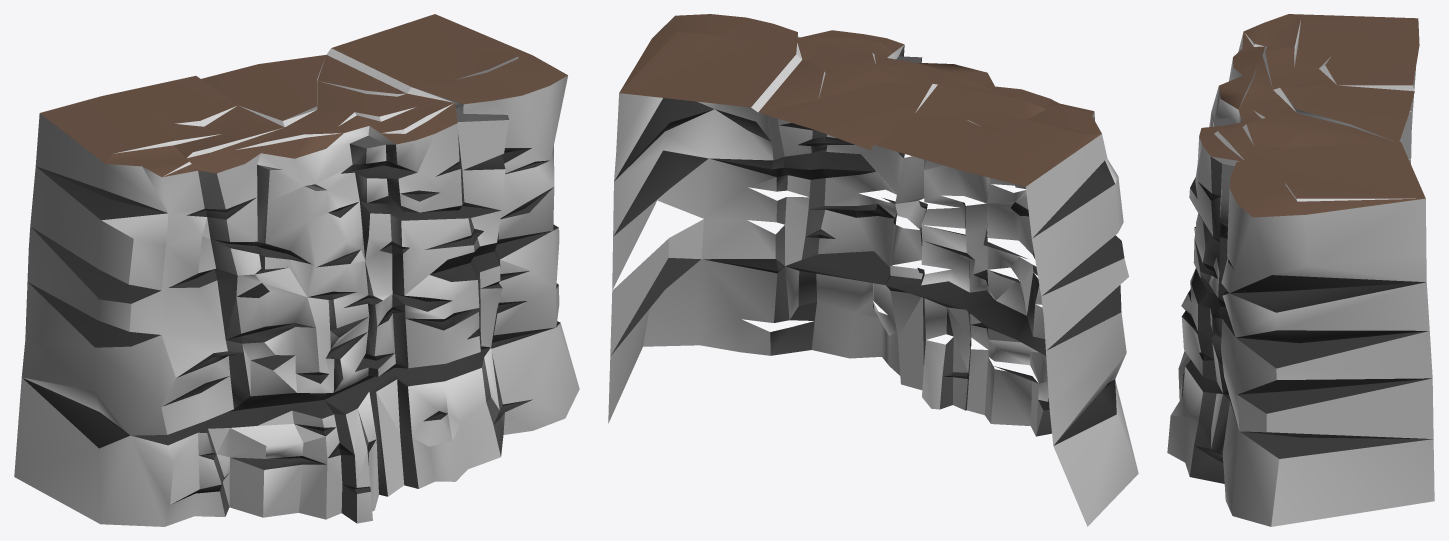
Rendered from Rock_Cliff_Detail.fbx.
The picture shows the model from 3 angles, left to right: view 1: azimuth 30°, elevation 25°; view 2: azimuth 150°, elevation 25°; view 3: azimuth 270°, elevation 25°; orthographic projection. The views are drawn at different scales.
Parts seen in each view (by area): view 1: Cliff; view 2: Cliff; view 3: Cliff.
Boxes of the visible parts, <box> form: Cliff: <box>14,14,579,526</box>; Cliff: <box>608,14,1138,526</box>; Cliff: <box>1167,14,1434,526</box>.
Bounding box in the file's own units: 10.89 × 7.62 × 5.45.
